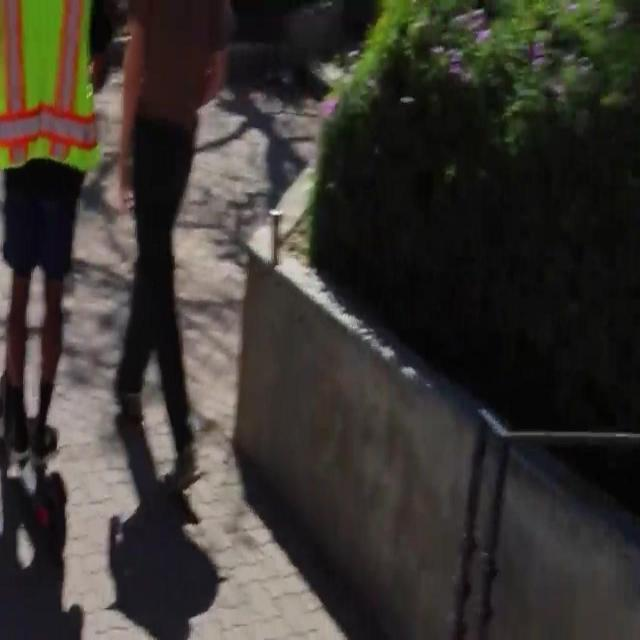reflective_jacket: (0, 0, 113, 209)
